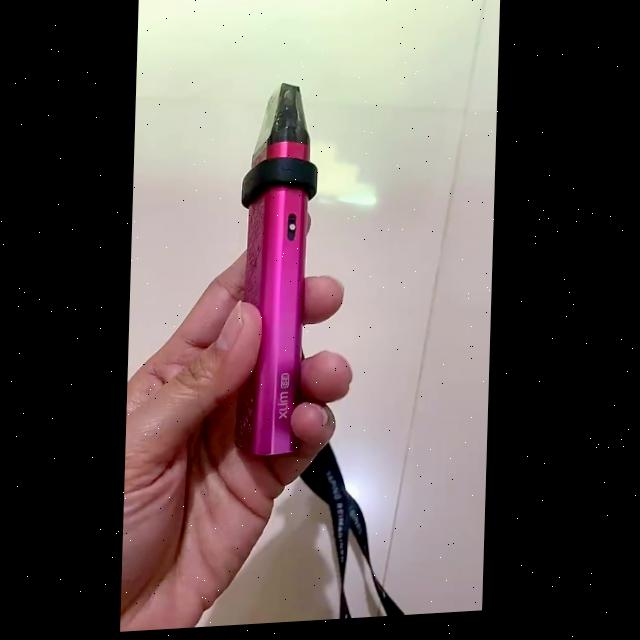vape: (235, 85, 322, 459)
